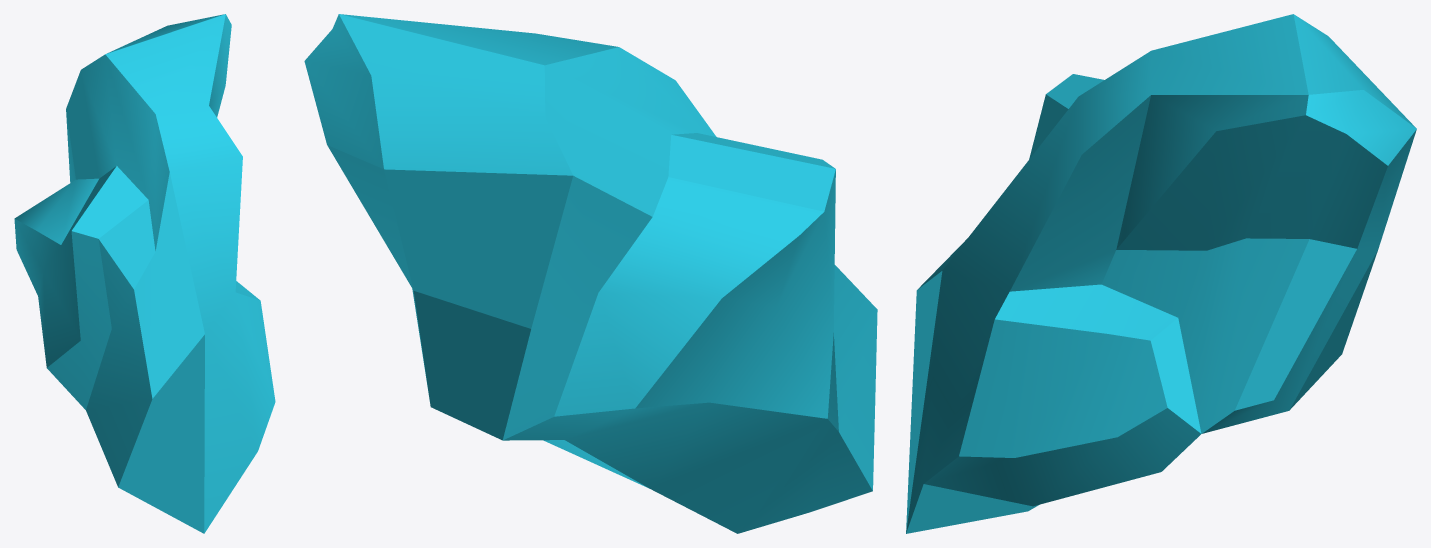
The model's file is gema.glb.
The picture shows the model from 3 angles, left to right: view 1: azimuth 30°, elevation 25°; view 2: azimuth 150°, elevation 25°; view 3: azimuth 270°, elevation 25°; orthographic projection. The views are drawn at different scales.
Parts seen in each view (by area): view 1: Gema; view 2: Gema; view 3: Gema.
Boxes of the visible parts, <box> form: Gema: <box>14,14,275,533</box>; Gema: <box>304,14,877,533</box>; Gema: <box>906,14,1416,533</box>.
Size of the model in its own units: 502 by 718 by 602.
